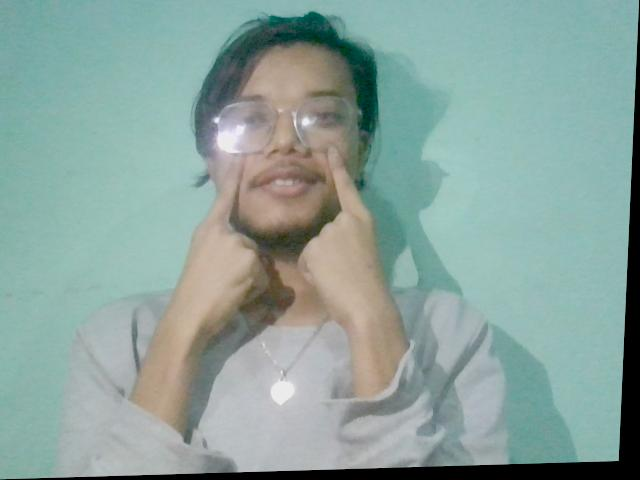Cry: (150, 129, 429, 376)
